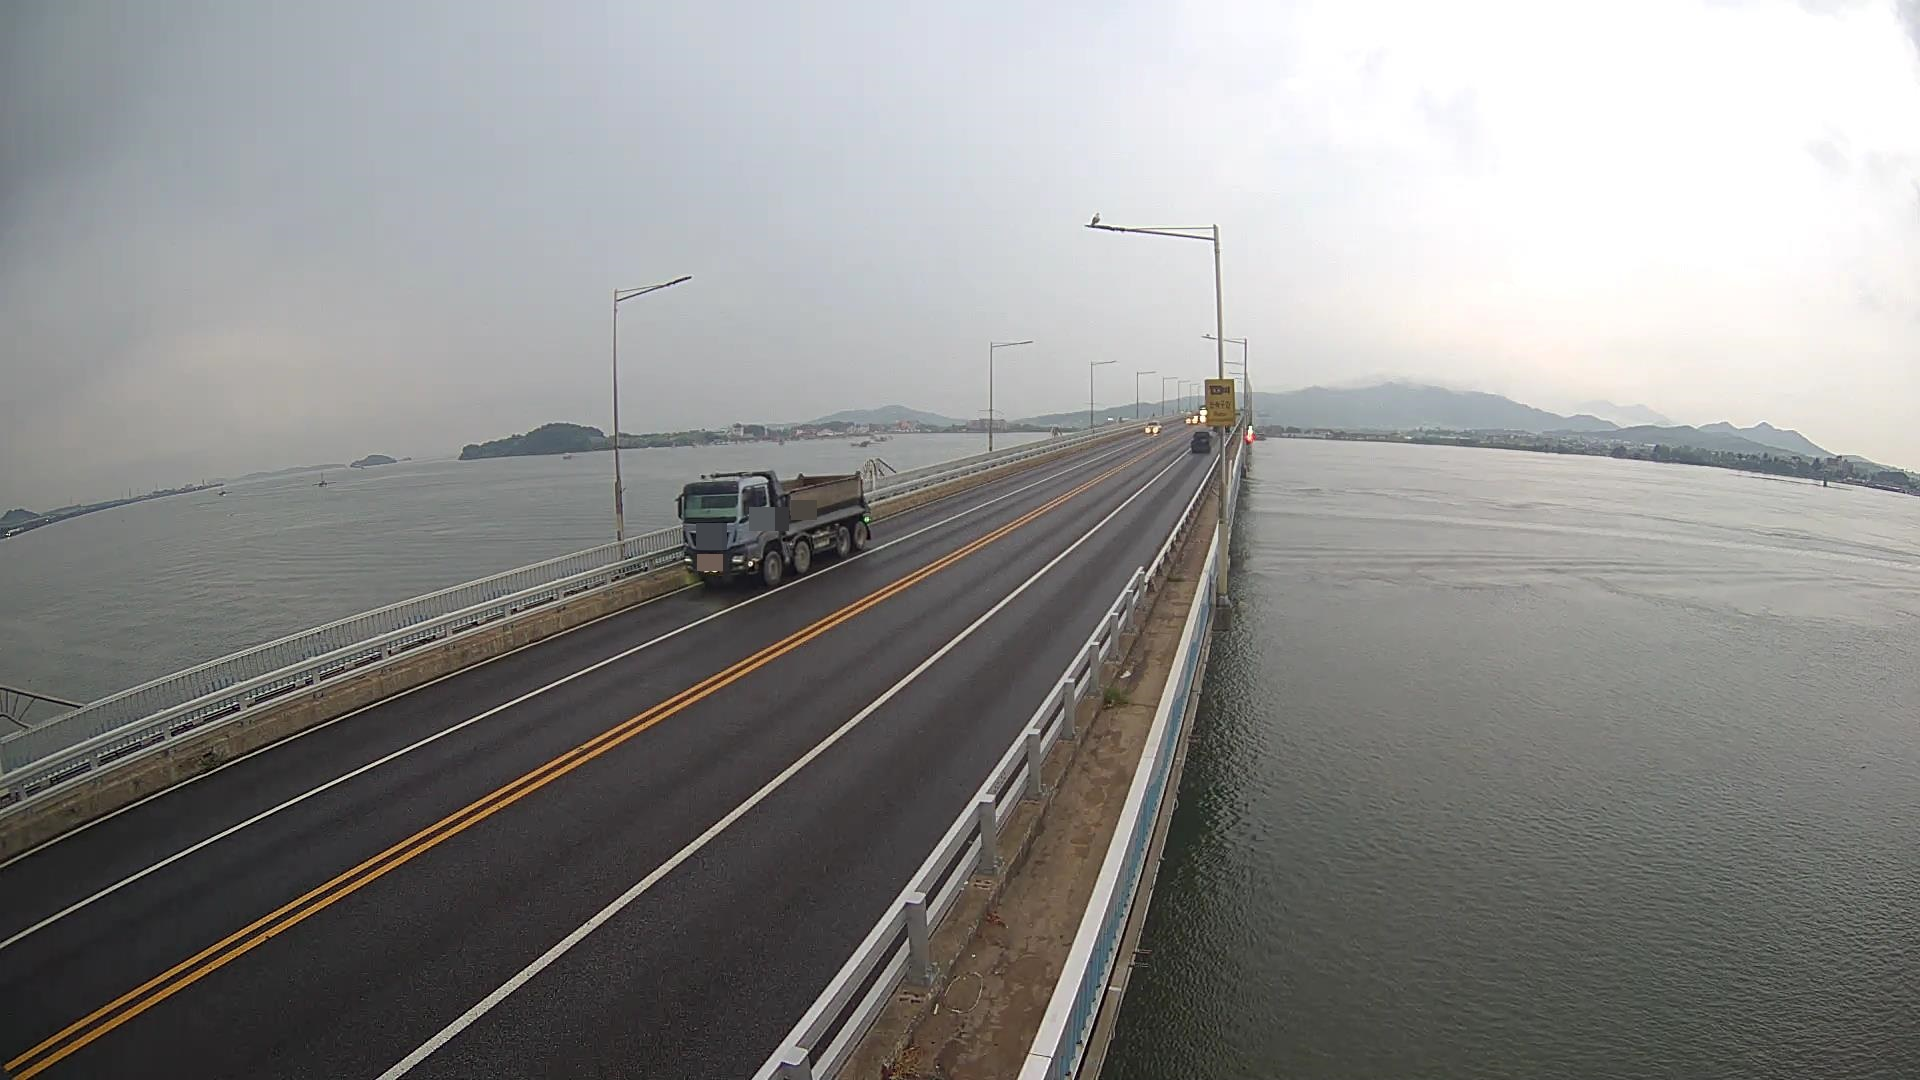정상차량: (675, 471, 870, 585)
